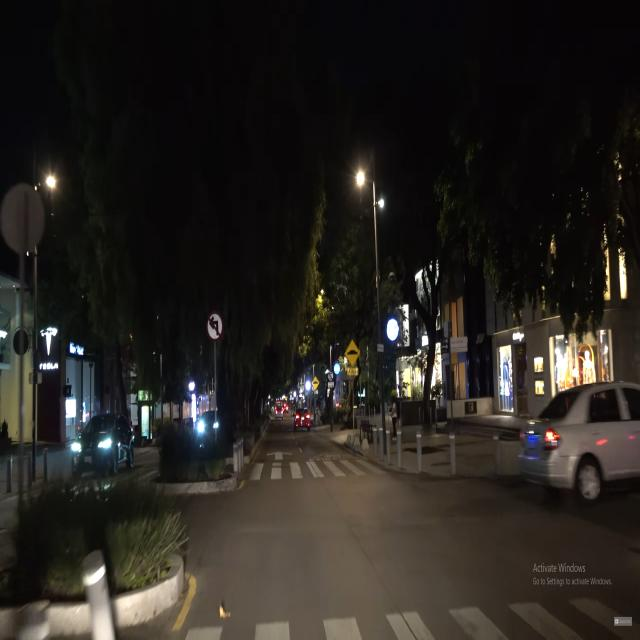headlights: (68, 429, 120, 463), (196, 415, 224, 439)
